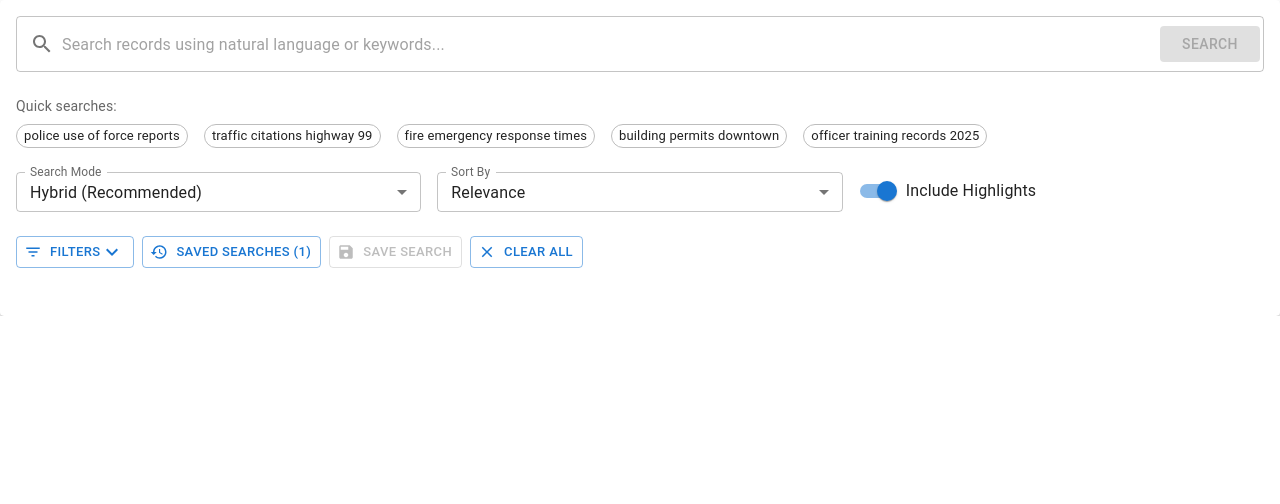
AdvancedSearchInterface › displays saved searches correctly
This screenshot has width=1280, height=504.
Click the button "Saved Searches (1)". click: (232, 252)
box: x1=142 y1=236 x2=321 y2=268
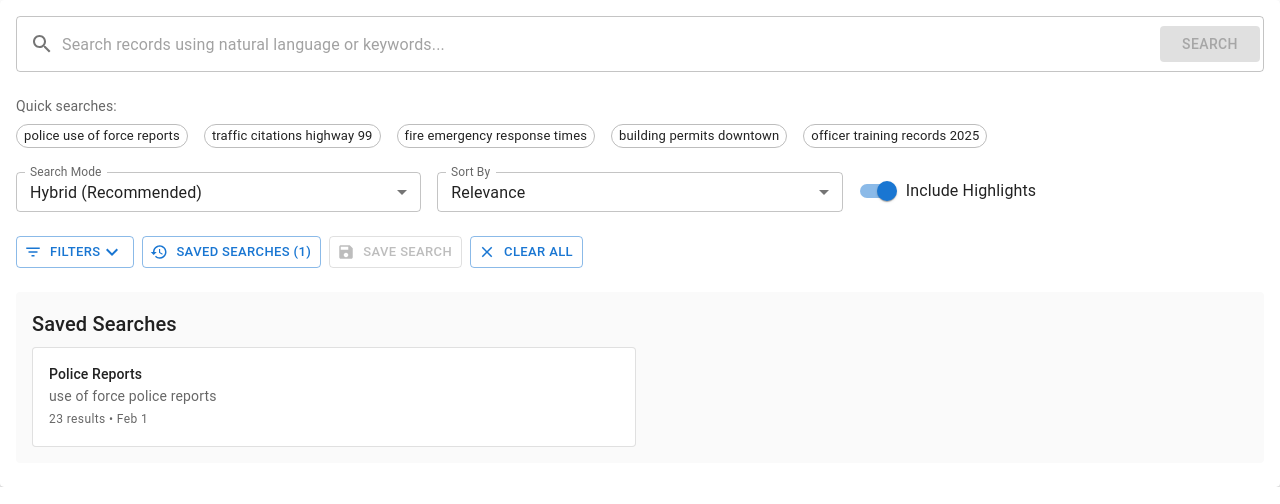
Expected: the heading "Police Reports" is shown, x1=49 y1=366 x2=142 y2=382
Expected: the text "use of force police reports" is shown, x1=49 y1=388 x2=217 y2=404
